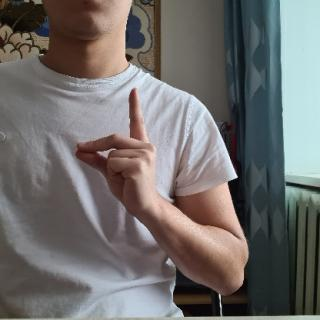TAA: (72, 81, 163, 216)
